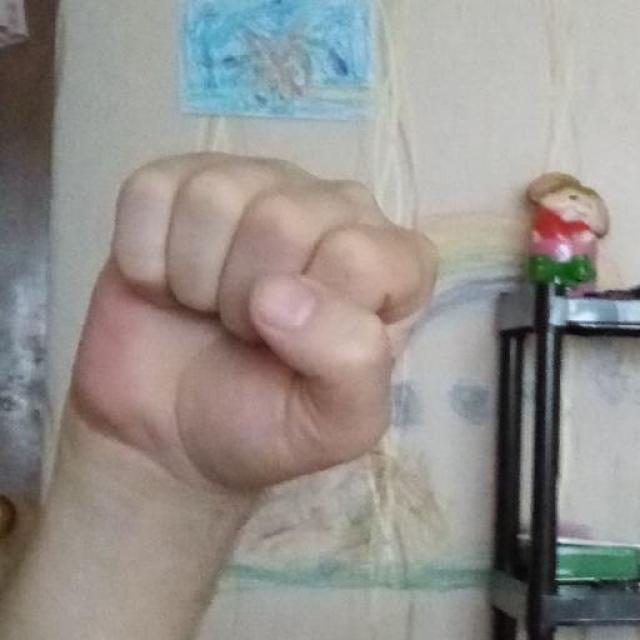hand: (69, 149, 440, 499)
